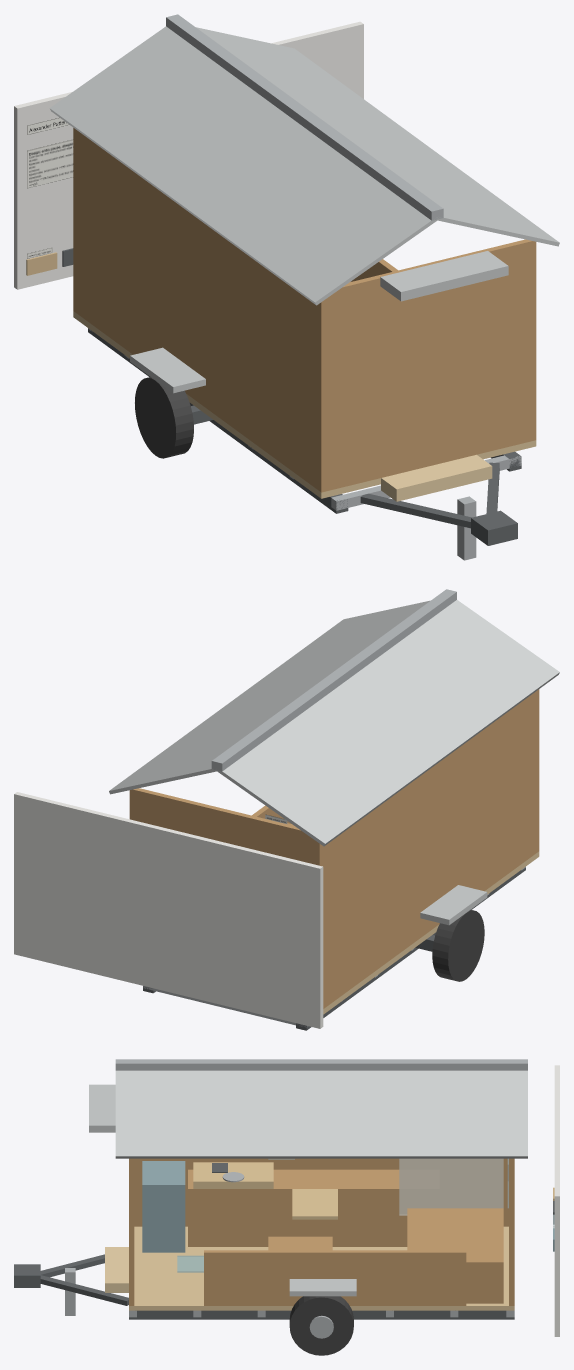
The model's file is alexander-pattern-cabin-trailer.dae.
3 renders of one model, top to bottom at view 1: azimuth 30°, elevation 25°; view 2: azimuth 150°, elevation 25°; view 3: azimuth 270°, elevation 25°, orthographic. The views are drawn at different scales.
Parts seen in each view (by area): view 1: left warm metal roof plane, left thick storage wall exterior, front wall with centered entry, right warm metal roof plane, Alexander Pattern-Language Cabin label board backing, ridge cap, left trailer wheel.003, front porch overhang, entry threshold step, 6x12 plywood trailer deck.004, left simple metal fender.003, Alexander Pattern-Language Cabin design logic label (+6 smaller); view 2: Alexander Pattern-Language Cabin label board backing, left warm metal roof plane, left thick storage wall exterior, right warm metal roof plane, rear sleeping nook wall, ridge cap, left trailer wheel.003, left simple metal fender.003, 6x12 plywood trailer deck.004, left steel frame rail.003; view 3: right warm metal roof plane, thick storage edge lower cabinets, cutaway right low wall, 6x12 plywood trailer deck.004, sleeping nook raised platform, canvas curtain defining sleeping nook, ridge cap, utility cabinet below entry shelf, right steel frame rail.003, right trailer wheel.003, left thick storage wall exterior, kitchenette in storage edge (+15 smaller).
Part boxes in pixels (x1,y1,x2,y2): left warm metal roof plane: (49,26,436,305); left thick storage wall exterior: (73,128,327,491); front wall with centered entry: (318,239,536,492); right warm metal roof plane: (196,27,559,246); Alexander Pattern-Language Cabin label board backing: (14,21,363,289); ridge cap: (166,14,443,220); left trailer wheel.003: (135,377,193,458); front porch overhang: (380,251,508,301); entry threshold step: (381,454,492,501); 6x12 plywood trailer deck.004: (73,311,536,498); left simple metal fender.003: (130,347,205,393); Alexander Pattern-Language Cabin design logic label: (27,139,73,188); Alexander Pattern-Language Cabin label board backing: (14,792,323,1028); left warm metal roof plane: (217,600,559,846); left thick storage wall exterior: (314,689,539,1008); right warm metal roof plane: (109,600,430,794); rear sleeping nook wall: (129,788,322,865); ridge cap: (211,589,456,771); left trailer wheel.003: (432,909,484,981); left simple metal fender.003: (420,885,487,925); 6x12 plywood trailer deck.004: (323,851,539,1014); left steel frame rail.003: (296,867,525,1030); right warm metal roof plane: (115,1070,527,1158); thick storage edge lower cabinets: (188,1169,407,1246); cutaway right low wall: (204,1250,466,1305); 6x12 plywood trailer deck.004: (129,1226,514,1310); sleeping nook raised platform: (407,1208,503,1303); canvas curtain defining sleeping nook: (399,1158,503,1215); ridge cap: (115,1059,527,1070); utility cabinet below entry shelf: (142,1161,185,1252); right steel frame rail.003: (129,1310,514,1319); right trailer wheel.003: (289,1296,353,1355); left thick storage wall exterior: (134,1158,508,1226); kitchenette in storage edge: (193,1162,273,1188).
Size of the model in its own units: 3.07 by 5.18 by 2.64.
25 materials, 9 textured.
